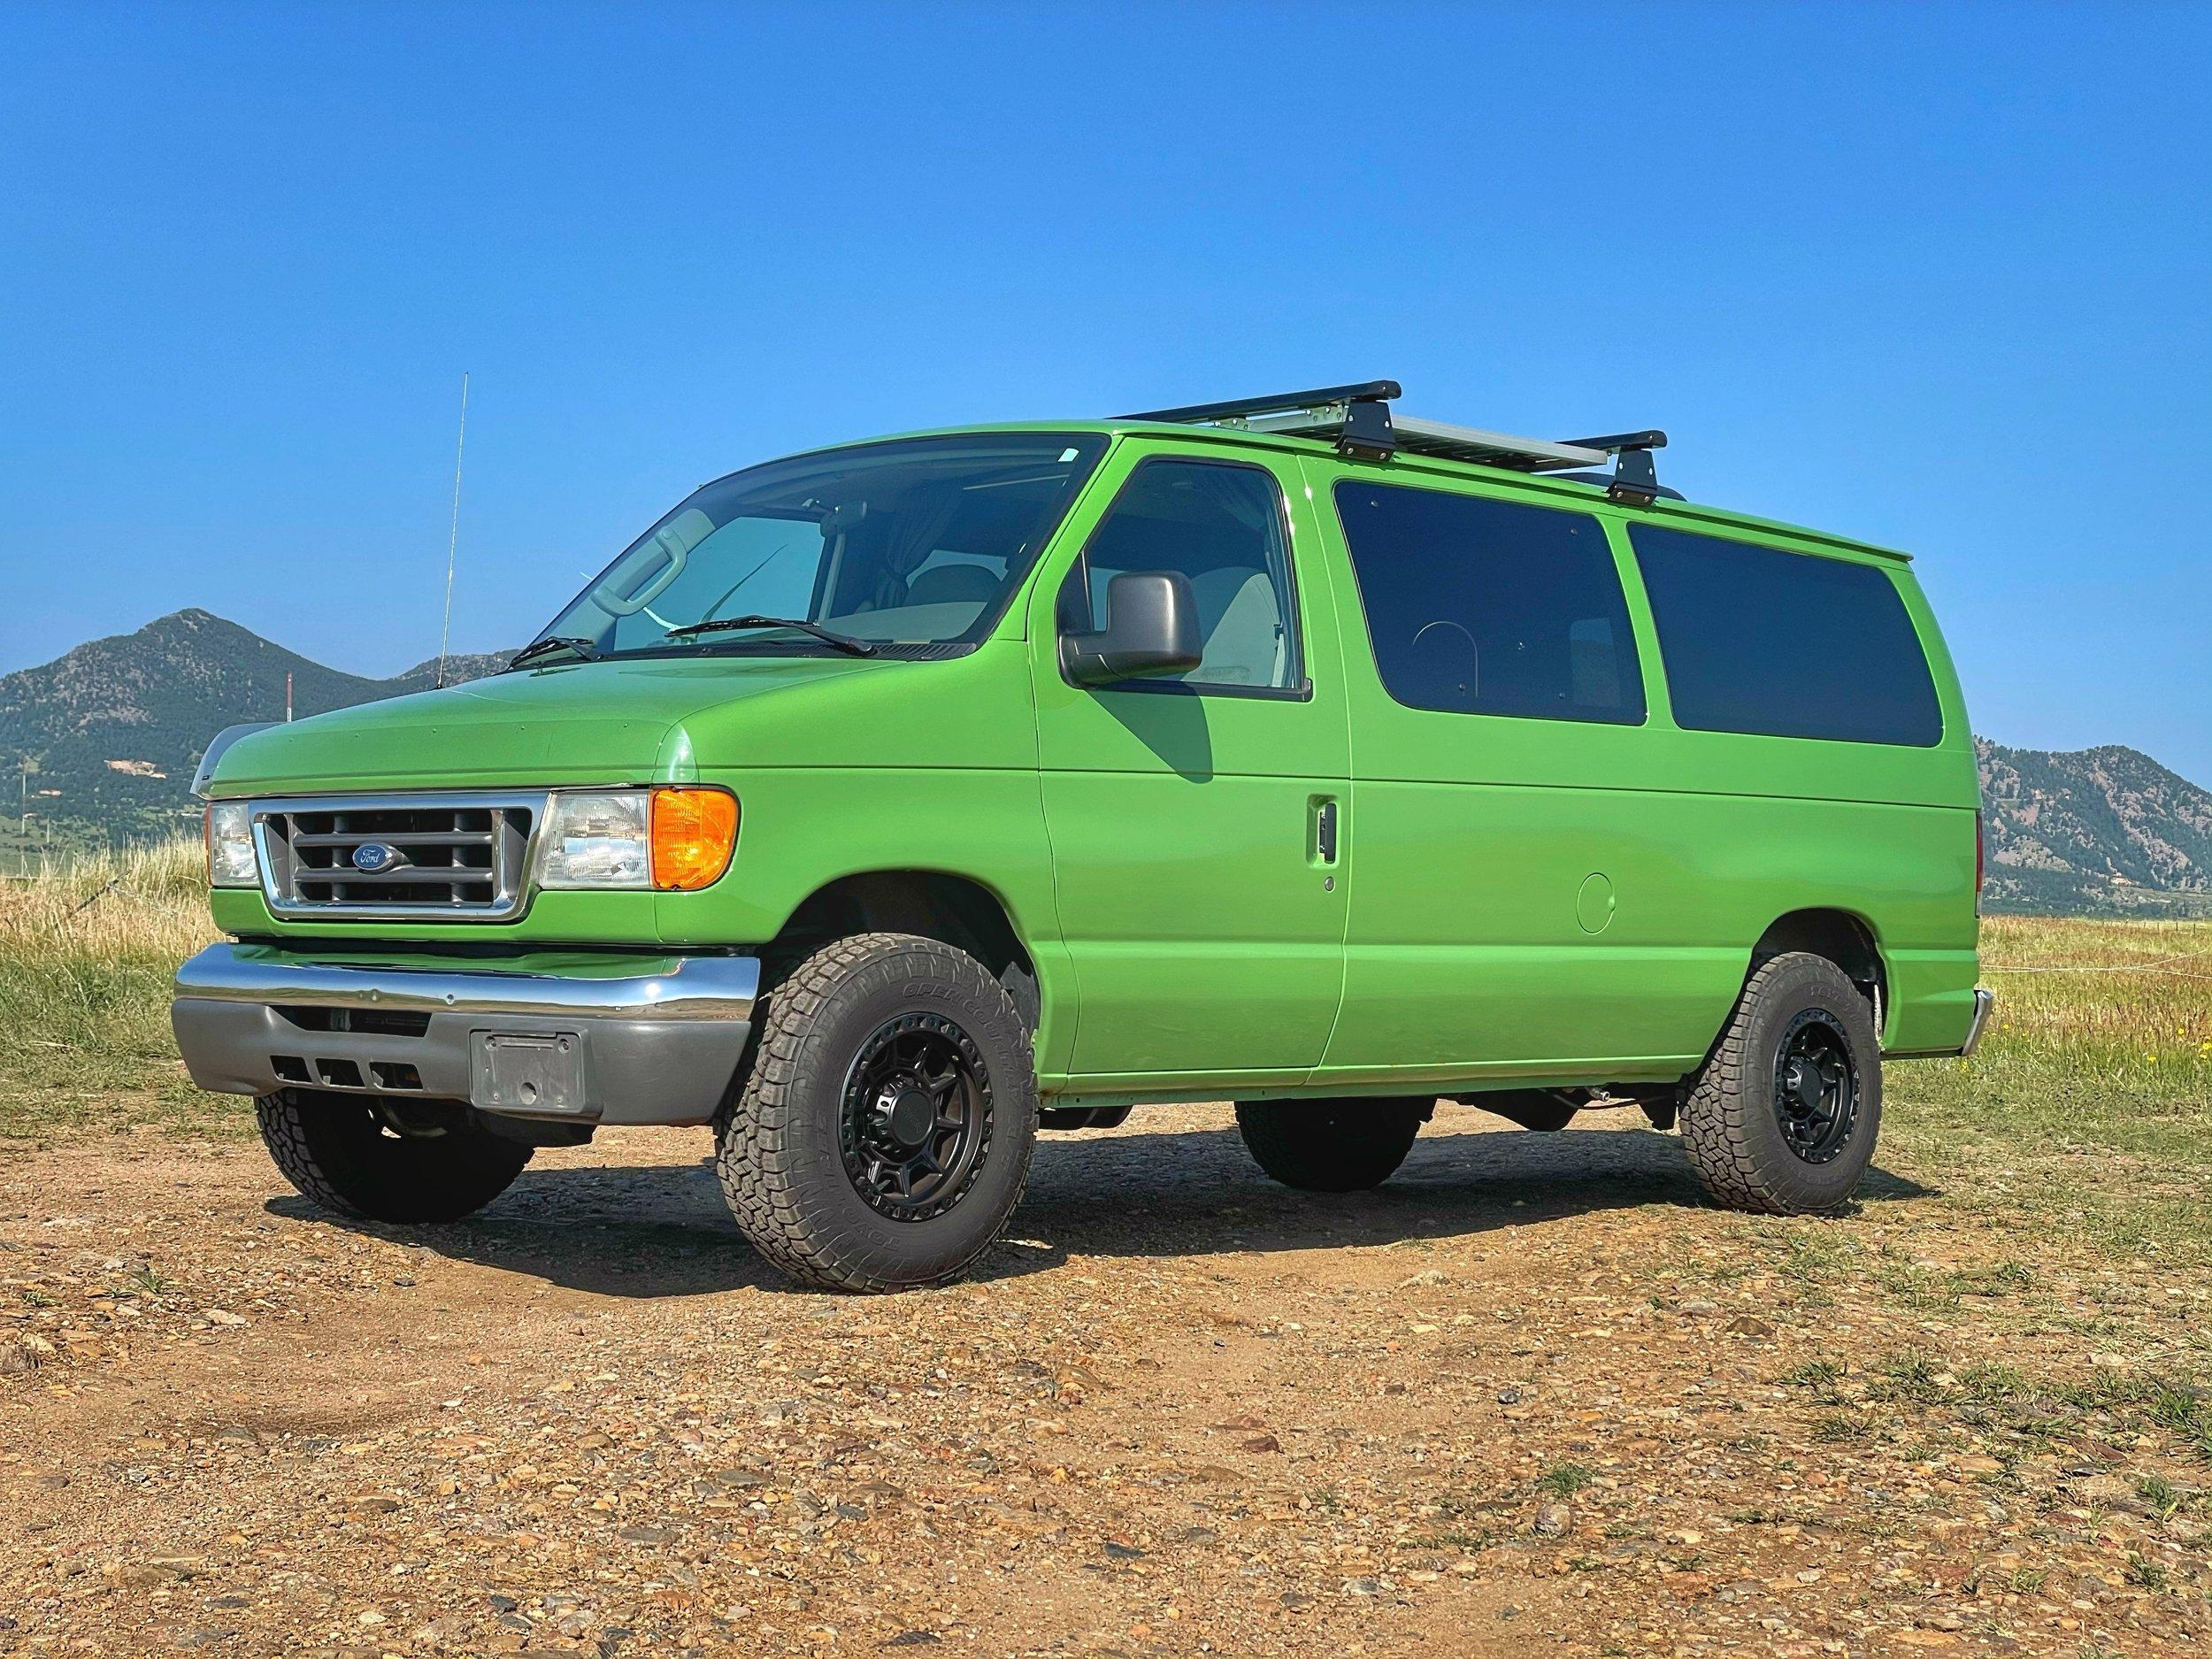car: (178, 378, 2019, 1293)
